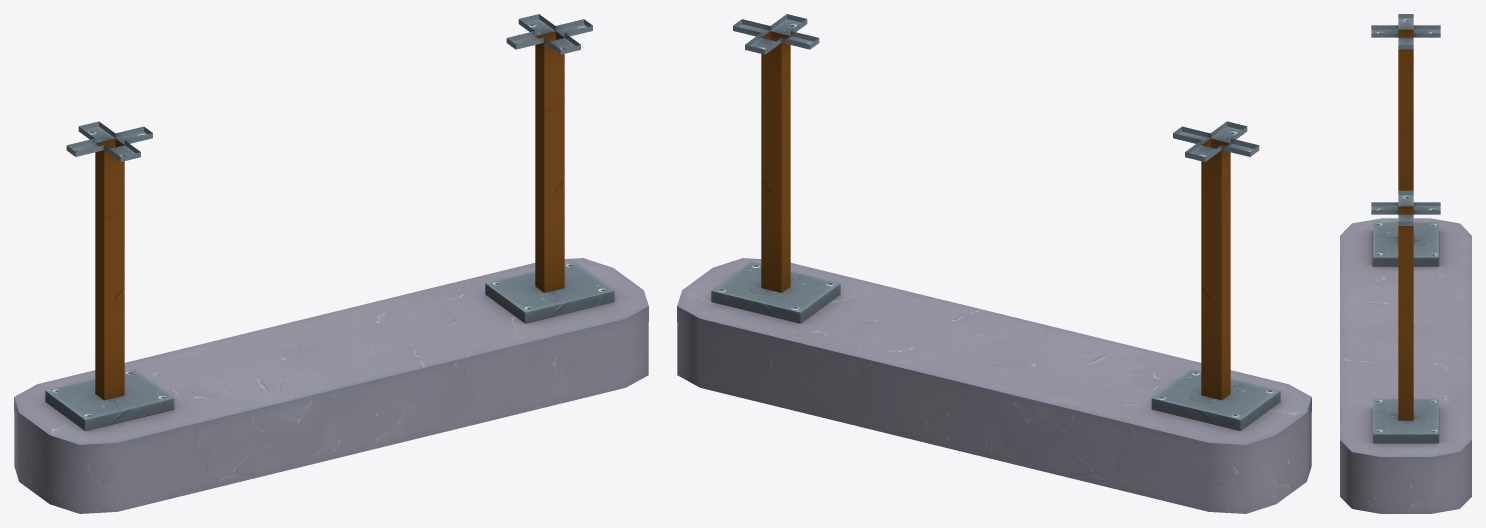
File: Lights.obj
3 renders of one model, left to right at view 1: azimuth 30°, elevation 25°; view 2: azimuth 150°, elevation 25°; view 3: azimuth 270°, elevation 25°, orthographic. The views are drawn at different scales.
Parts seen in each view (by area): view 1: Lights; view 2: Lights; view 3: Lights.
Part boxes in pixels (x1,y1,x2,y2): Lights: [14, 14, 648, 513]; Lights: [677, 14, 1311, 513]; Lights: [1340, 14, 1471, 513].
Size of the model in its own units: 5.4 by 2.91 by 1.26.
